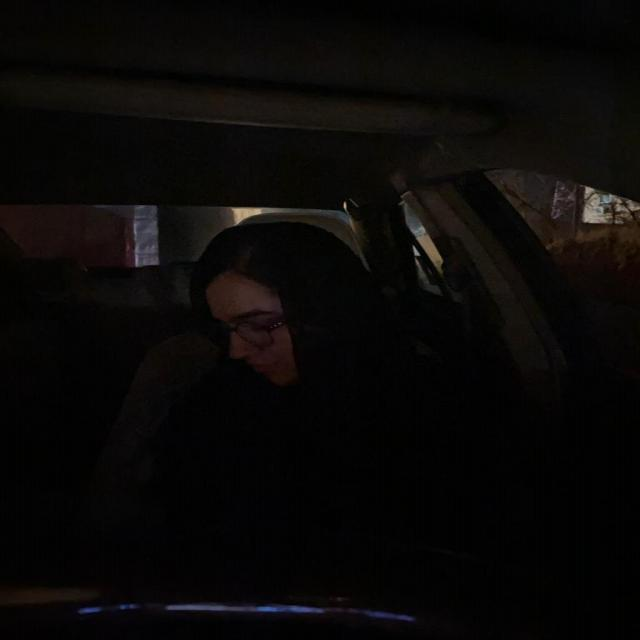drowsy: (193, 227, 358, 409)
